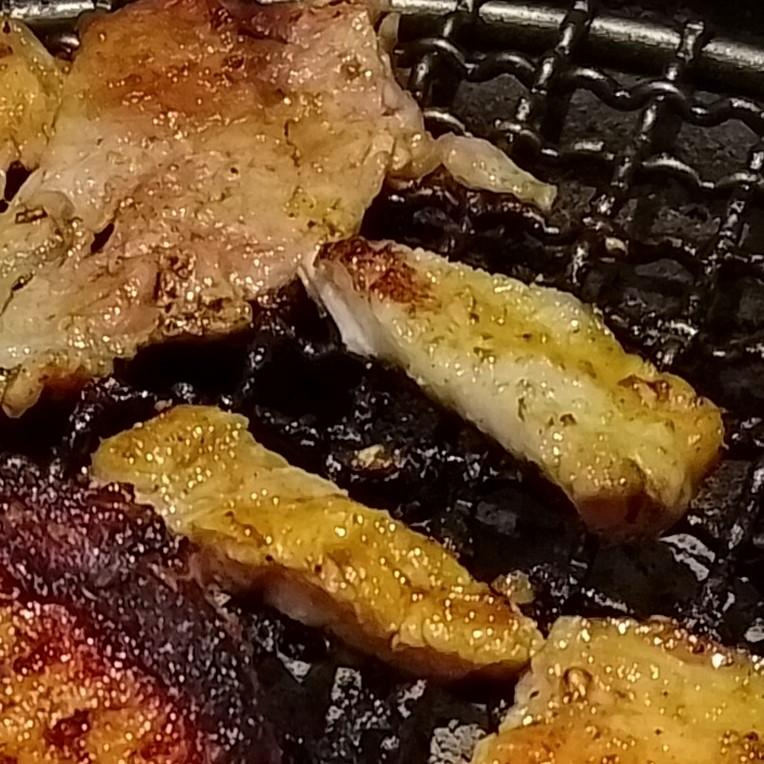Overcooked: (311, 237, 727, 551), (0, 458, 283, 763)
Well-Cooked: (0, 0, 440, 420), (92, 406, 541, 698), (473, 619, 763, 763)
